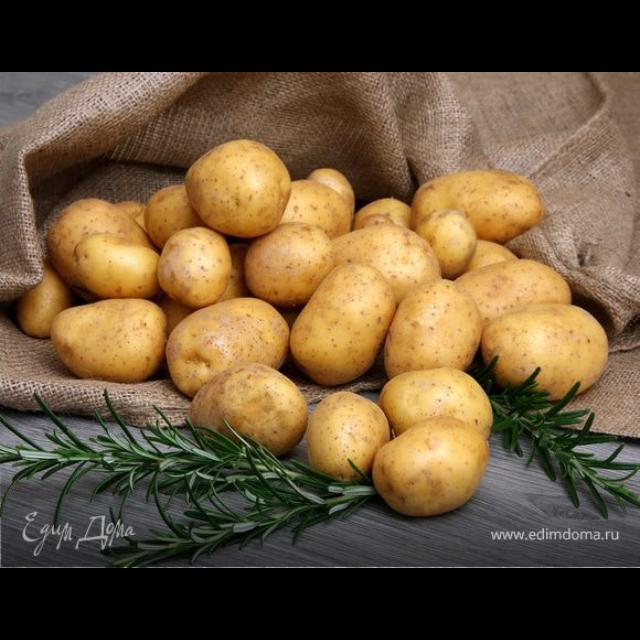Potato: (288, 260, 396, 386), (165, 298, 292, 402), (480, 304, 612, 401), (45, 190, 167, 290), (372, 416, 490, 518), (188, 364, 310, 462), (383, 282, 485, 392), (320, 226, 442, 316), (185, 139, 293, 239), (49, 296, 164, 386), (446, 257, 572, 339), (414, 170, 544, 244), (378, 367, 494, 448), (306, 390, 392, 488), (243, 220, 334, 304), (264, 180, 352, 258), (158, 226, 234, 310), (74, 234, 160, 296), (146, 184, 218, 252), (13, 258, 72, 338), (448, 234, 532, 288), (412, 211, 476, 279), (303, 166, 357, 238), (352, 198, 412, 248), (357, 212, 397, 244)
